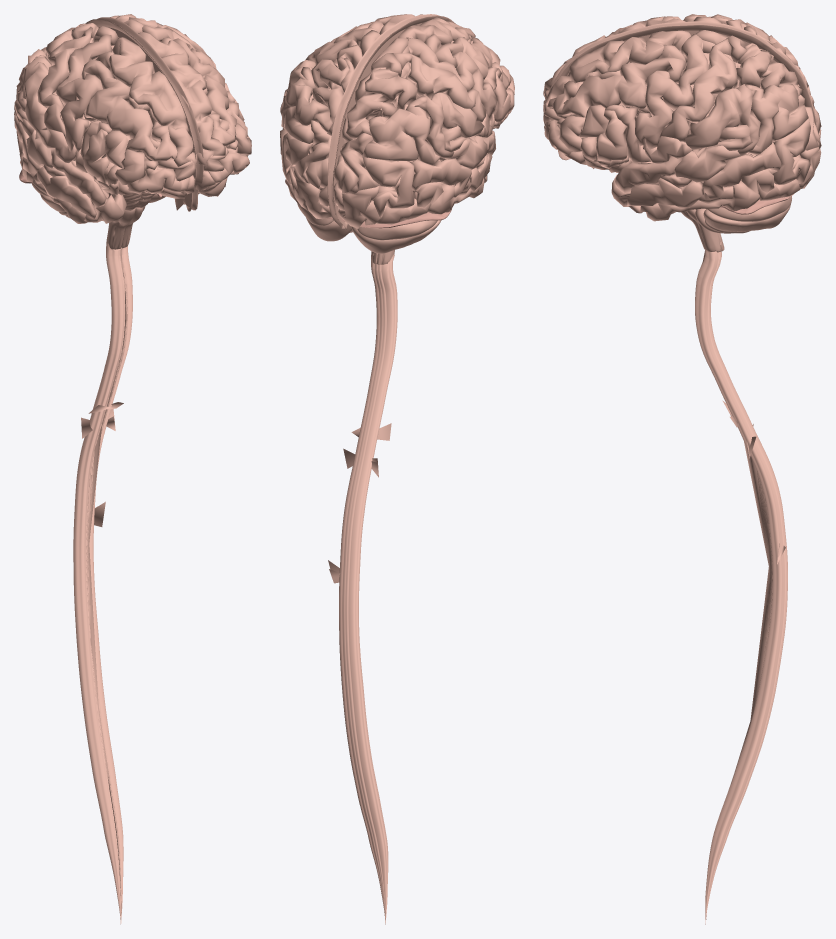
File: cns.glb
3 renders of one model, left to right at view 1: azimuth 30°, elevation 25°; view 2: azimuth 150°, elevation 25°; view 3: azimuth 270°, elevation 25°, orthographic.
Visible parts, largest first — view 1: spinal-dura, middle-frontal-gyrus-right, superior-frontal-gyrus-right, precentral-gyrus-right, superior-frontal-gyrus-left, falx-cerebri, middle-frontal-gyrus-left, postcentral-gyrus-right, superior-temporal-gyrus-lateral-part-right, middle-temporal-gyrus-right, supramarginal-gyrus-right, orbital-gyri-frontomarginal-gyrus-and-sulcus-right (+9 smaller); view 2: spinal-dura, angular-gyrus-right, falx-cerebri, superior-parietal-lobule-right, postcentral-gyrus-right, supramarginal-gyrus-right, precentral-gyrus-right, angular-gyrus-left, lateral-occipital-gyrus-middle-occipital-gyrus-right, middle-temporal-gyrus-right, superior-parietal-lobule-left, middle-frontal-gyrus-right (+18 smaller); view 3: spinal-dura, middle-frontal-gyrus-left, precentral-gyrus-left, middle-temporal-gyrus-left, superior-frontal-gyrus-left, falx-cerebri, postcentral-gyrus-left, superior-temporal-gyrus-lateral-part-left, supramarginal-gyrus-left, angular-gyrus-left, inferior-temporal-gyrus-left, superior-parietal-lobule-left (+11 smaller).
Part boxes in pixels (box(x1,y1,x2,y2)): spinal-dura: box(73, 243, 132, 924); middle-frontal-gyrus-right: box(81, 59, 177, 184); superior-frontal-gyrus-right: box(108, 37, 197, 170); precentral-gyrus-right: box(56, 34, 112, 151); superior-frontal-gyrus-left: box(138, 32, 225, 167); falx-cerebri: box(85, 17, 203, 211); middle-frontal-gyrus-left: box(173, 38, 251, 154); postcentral-gyrus-right: box(37, 26, 92, 138); superior-temporal-gyrus-lateral-part-right: box(19, 118, 106, 207); middle-temporal-gyrus-right: box(14, 111, 96, 218); supramarginal-gyrus-right: box(14, 56, 51, 132); orbital-gyri-frontomarginal-gyrus-and-sulcus-right: box(127, 166, 189, 193); spinal-dura: box(328, 253, 397, 924); angular-gyrus-right: box(362, 95, 440, 165); falx-cerebri: box(327, 14, 455, 229); superior-parietal-lobule-right: box(346, 68, 417, 139); postcentral-gyrus-right: box(393, 53, 486, 122); supramarginal-gyrus-right: box(414, 92, 484, 159); precentral-gyrus-right: box(402, 37, 497, 120); angular-gyrus-left: box(281, 67, 328, 143); lateral-occipital-gyrus-middle-occipital-gyrus-right: box(362, 157, 414, 217); middle-temporal-gyrus-right: box(407, 153, 492, 197); superior-parietal-lobule-left: box(311, 57, 349, 131); middle-frontal-gyrus-right: box(435, 37, 514, 94); spinal-dura: box(695, 242, 787, 923); middle-frontal-gyrus-left: box(547, 56, 686, 152); precentral-gyrus-left: box(635, 34, 715, 150); middle-temporal-gyrus-left: box(627, 142, 781, 208); superior-frontal-gyrus-left: box(543, 30, 690, 112); falx-cerebri: box(550, 21, 816, 168); postcentral-gyrus-left: box(659, 38, 737, 141); superior-temporal-gyrus-lateral-part-left: box(615, 145, 741, 193); supramarginal-gyrus-left: box(685, 84, 760, 155); angular-gyrus-left: box(745, 84, 808, 155); inferior-temporal-gyrus-left: box(640, 168, 777, 221); superior-parietal-lobule-left: box(736, 44, 803, 95).
Size of the model in its own units: 0.1375 by 0.6458 by 0.1807.
